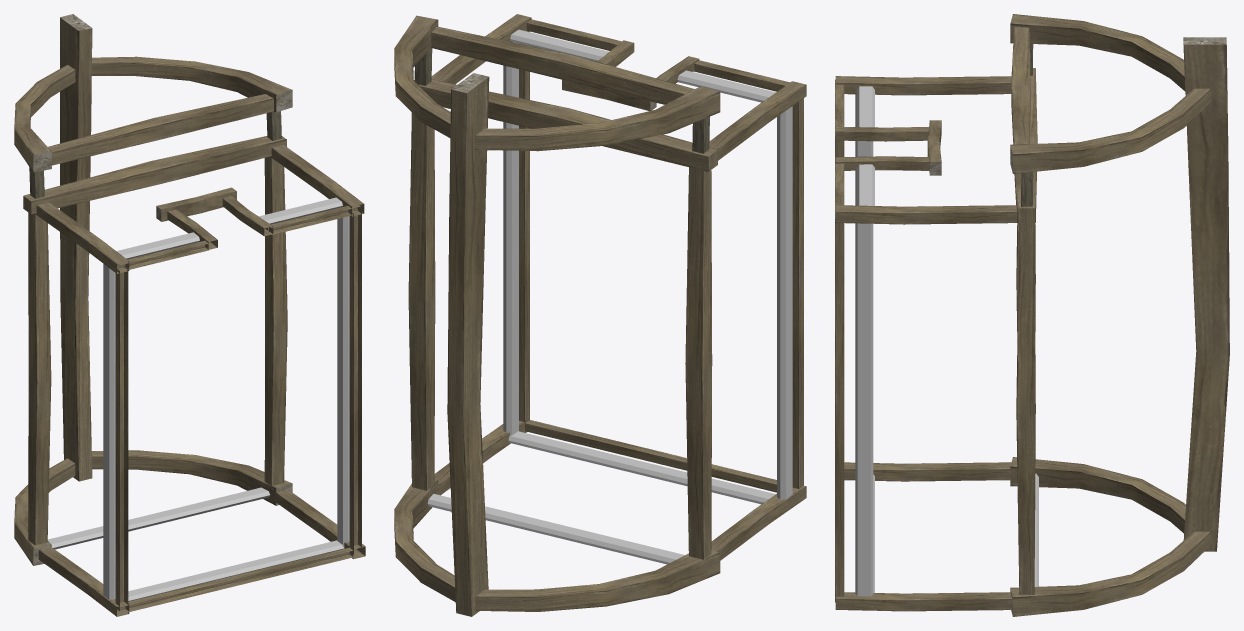
File: Pirate_House_Structure_B.fbx
3 views of the same model, side by side, from view 1: azimuth 30°, elevation 25°; view 2: azimuth 150°, elevation 25°; view 3: azimuth 270°, elevation 25° (orthographic). The views are drawn at different scales.
Parts seen in each view (by area): view 1: Pirate_House_Structure_B; view 2: Pirate_House_Structure_B; view 3: Pirate_House_Structure_B.
Boxes of the visible parts, <box> form: Pirate_House_Structure_B: <box>14,14,365,616</box>; Pirate_House_Structure_B: <box>394,14,806,616</box>; Pirate_House_Structure_B: <box>835,14,1229,616</box>.
Size of the model in its own units: 7.12 by 11.82 by 8.34.
